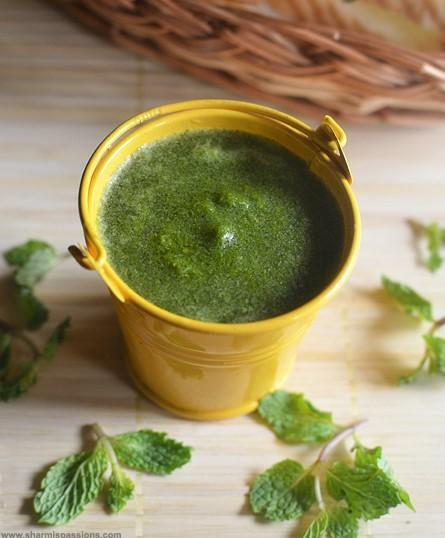GreenChutney: (102, 129, 343, 323)
